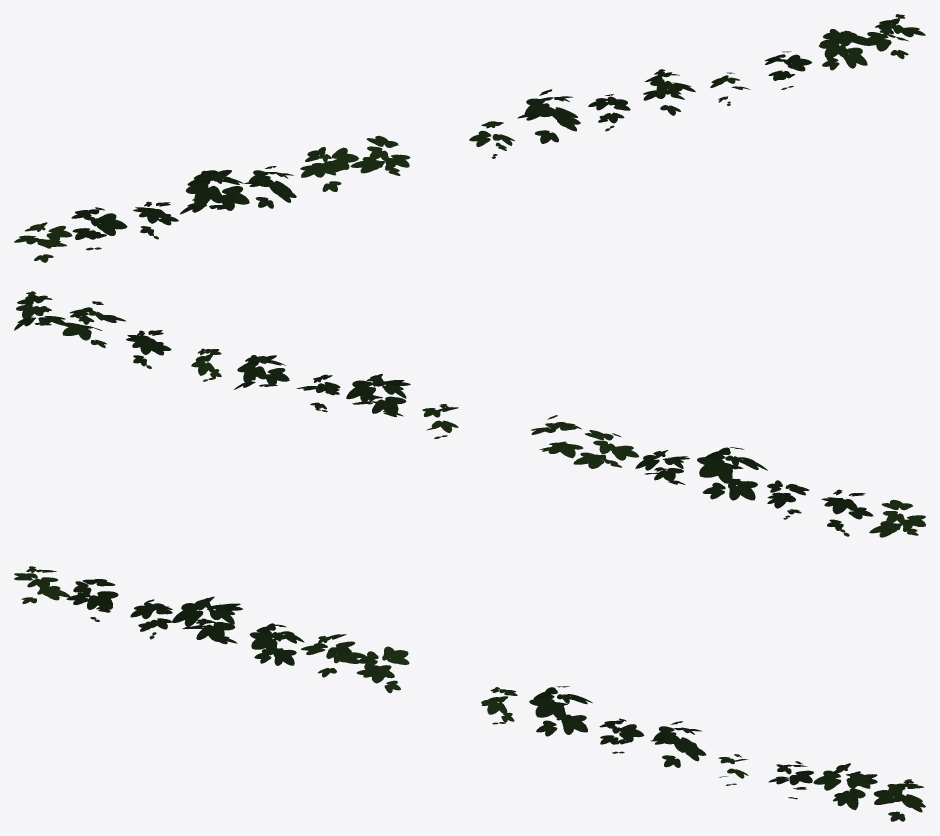
Rendered from ROW_12_SEG1_foliage.dae.
3 renders of one model, top to bottom at view 1: azimuth 30°, elevation 25°; view 2: azimuth 150°, elevation 25°; view 3: azimuth 330°, elevation 25°, orthographic.
Visible parts, largest first — view 1: ROW_12_SEG1_foliage; view 2: ROW_12_SEG1_foliage; view 3: ROW_12_SEG1_foliage.
Part boxes in pixels (<box>): ROW_12_SEG1_foliage: <box>14,14,925,262</box>; ROW_12_SEG1_foliage: <box>14,291,925,537</box>; ROW_12_SEG1_foliage: <box>14,566,925,821</box>.
Size of the model in its own units: 4.81 by 0.3266 by 0.2979.
